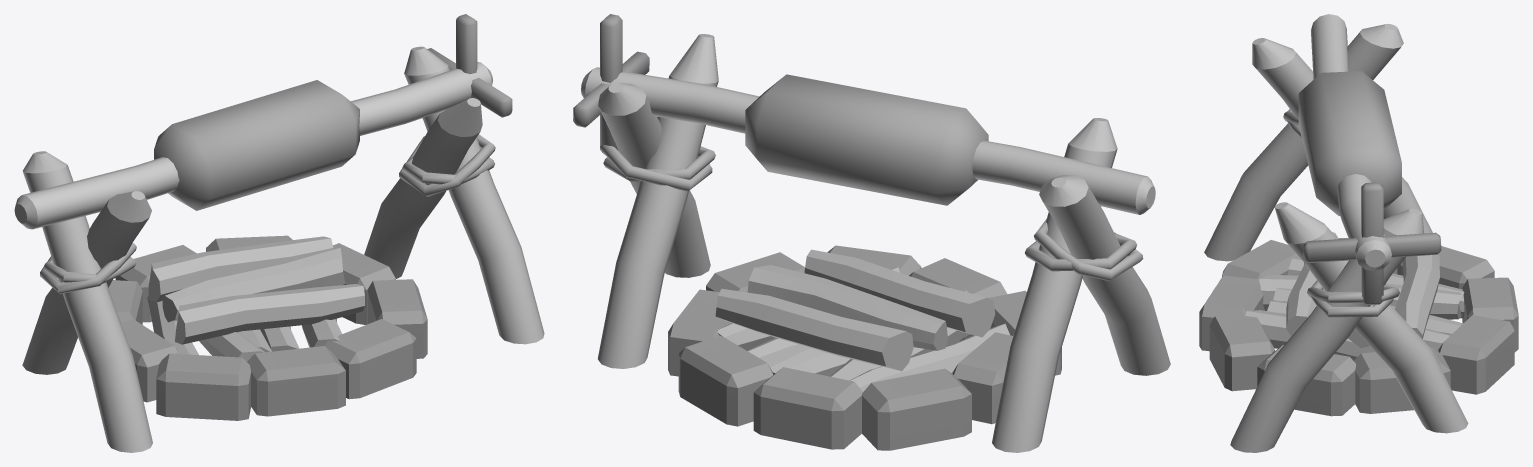
Rendered from Camp_fire.fbx.
3 renders of one model, left to right at view 1: azimuth 30°, elevation 25°; view 2: azimuth 150°, elevation 25°; view 3: azimuth 270°, elevation 25°, orthographic. The views are drawn at different scales.
Visible parts, largest first — view 1: Camp_Fire, Camp_meat; view 2: Camp_Fire, Camp_meat; view 3: Camp_Fire, Camp_meat.
Part boxes in pixels (x1,y1,x2,y2): Camp_Fire: [22, 46, 544, 452]; Camp_meat: [14, 14, 512, 229]; Camp_Fire: [597, 34, 1170, 452]; Camp_meat: [573, 14, 1155, 214]; Camp_Fire: [1199, 24, 1518, 452]; Camp_meat: [1298, 14, 1441, 305].
Bounding box in the file's own units: 1.92 × 1.02 × 1.12.
